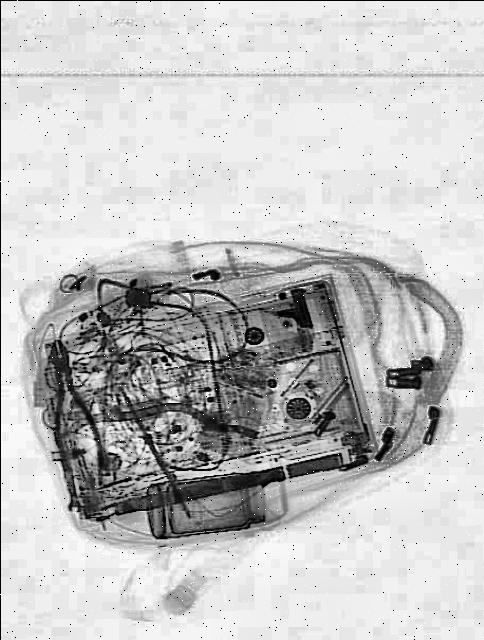Pliers: (31, 330, 107, 494)
Wrench: (60, 464, 78, 510)
